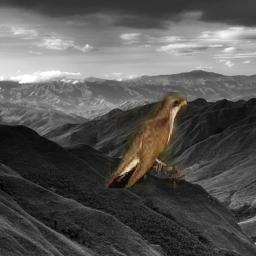Cuckoo: (105, 92, 187, 188)
